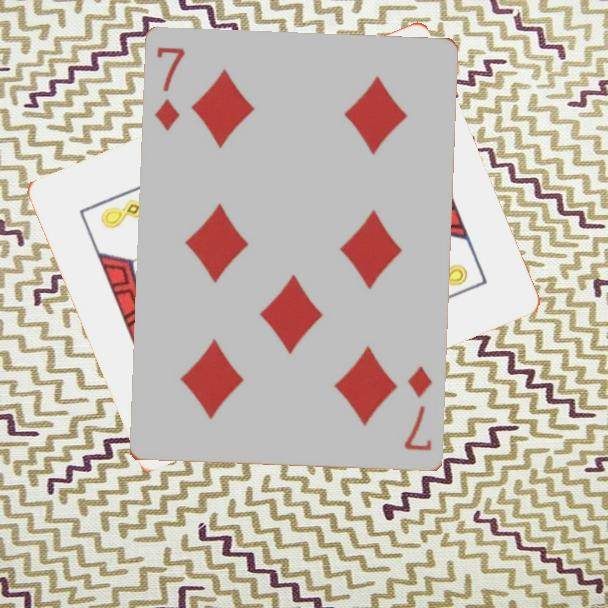d07: (152, 44, 188, 135), (401, 364, 436, 454)
